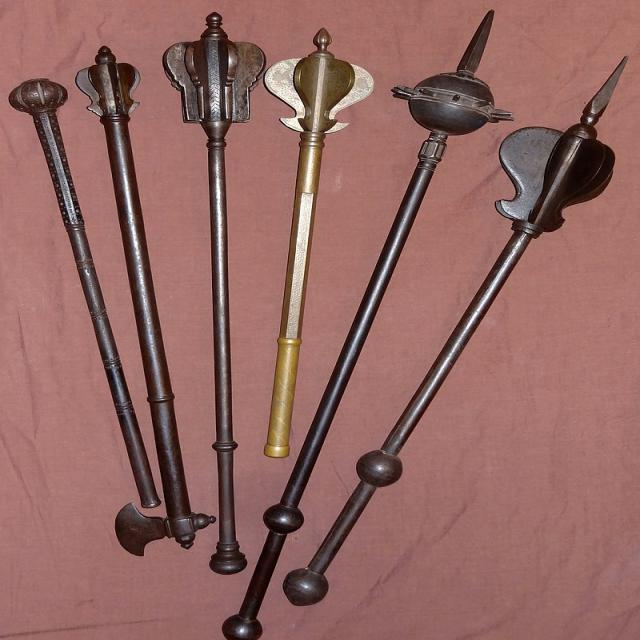mace: (224, 73, 518, 640), (284, 125, 620, 607), (7, 77, 162, 510), (72, 46, 201, 549), (164, 13, 268, 576), (264, 30, 371, 458)
